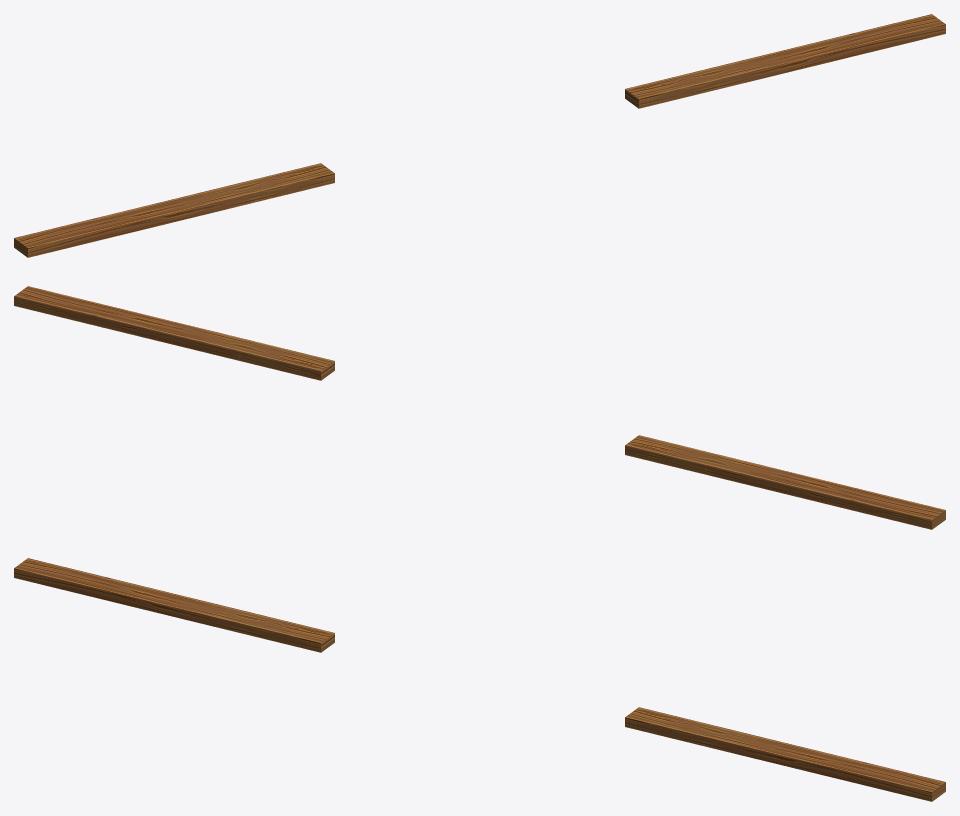
The picture shows the model from 3 angles, top to bottom: view 1: azimuth 30°, elevation 25°; view 2: azimuth 150°, elevation 25°; view 3: azimuth 330°, elevation 25°; orthographic projection.
Visible parts, largest first — view 1: Cube.760; view 2: Cube.760; view 3: Cube.760.
Part boxes in pixels (left/top/right/bottom): Cube.760: left=14, top=14, right=945, bottom=257; Cube.760: left=14, top=286, right=945, bottom=529; Cube.760: left=14, top=558, right=945, bottom=801.
Size of the model in its own units: 900 by 8.98 by 23.77.
Materials: 1 (1 with a texture image).
